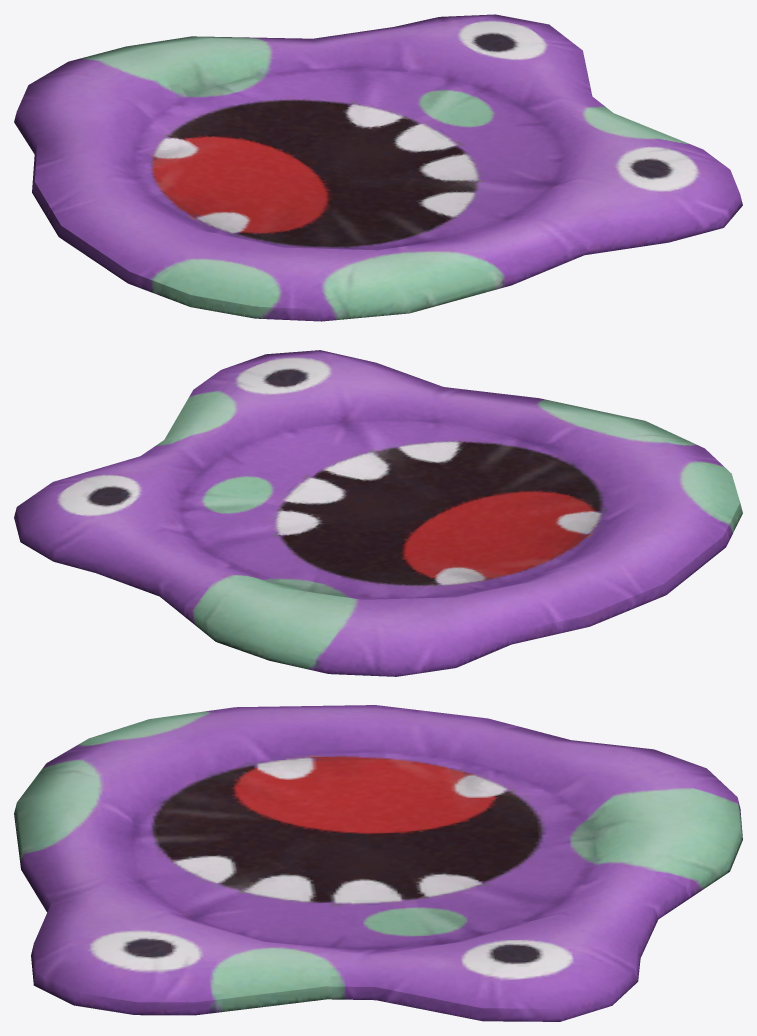
The model's file is camaMax.fbx.
3 views of the same model, one above another, from view 1: azimuth 30°, elevation 25°; view 2: azimuth 150°, elevation 25°; view 3: azimuth 270°, elevation 25° (orthographic). The views are drawn at different scales.
Visible parts, largest first — view 1: s4studio_mesh_0; view 2: s4studio_mesh_0; view 3: s4studio_mesh_0.
Boxes of the visible parts, <box> form: s4studio_mesh_0: <box>14,14,742,321</box>; s4studio_mesh_0: <box>14,350,742,676</box>; s4studio_mesh_0: <box>14,705,742,1021</box>.
Size of the model in its own units: 89.83 by 3.9 by 90.3.
Materials: 1 (1 with a texture image).
